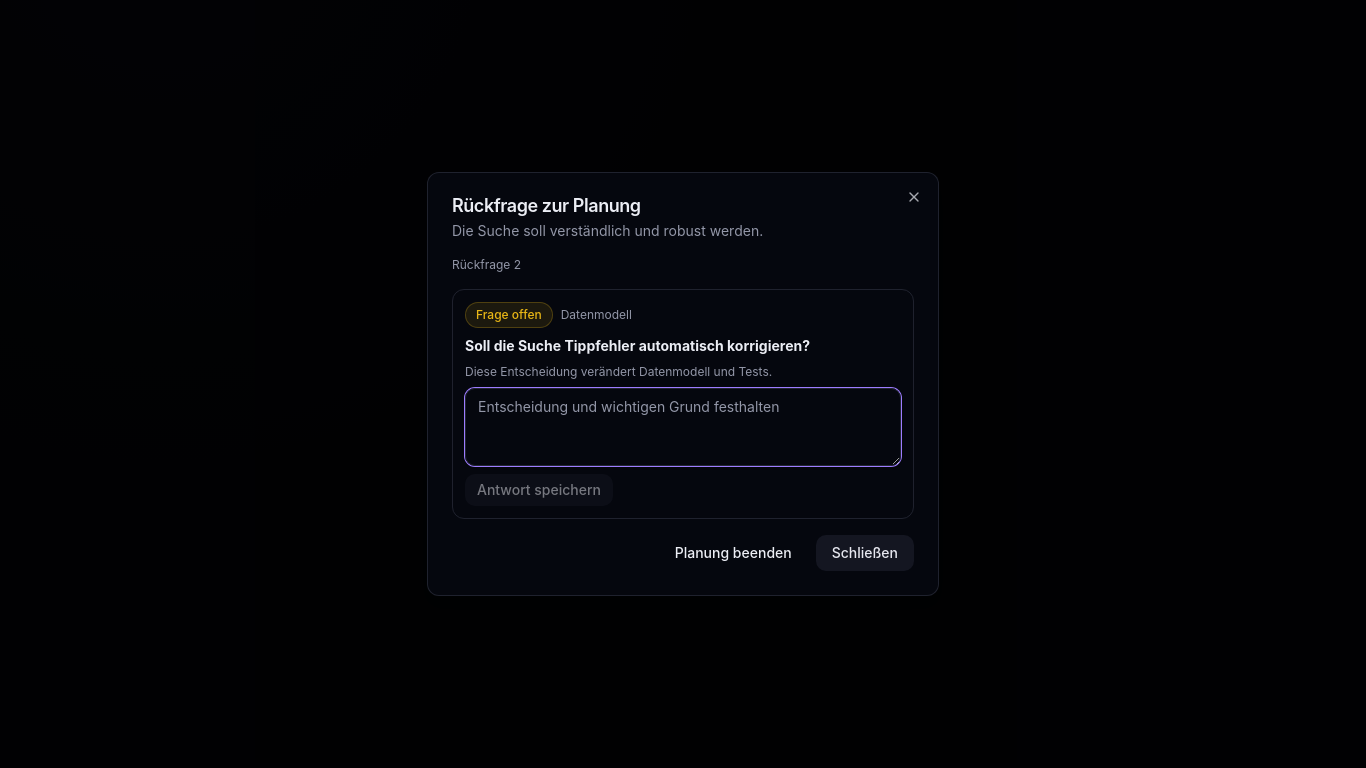
meldet verständlich, wenn die gespeicherte Antwort nur verzögert weiterläuft
The image size is (1366, 768).
In the text box named "Antwort auf: Soll die Suche Tippfehler automatisch korrigieren?": (683, 427) [465,388,901,466], type "Nein, die Eingabe soll unverändert bleiben."
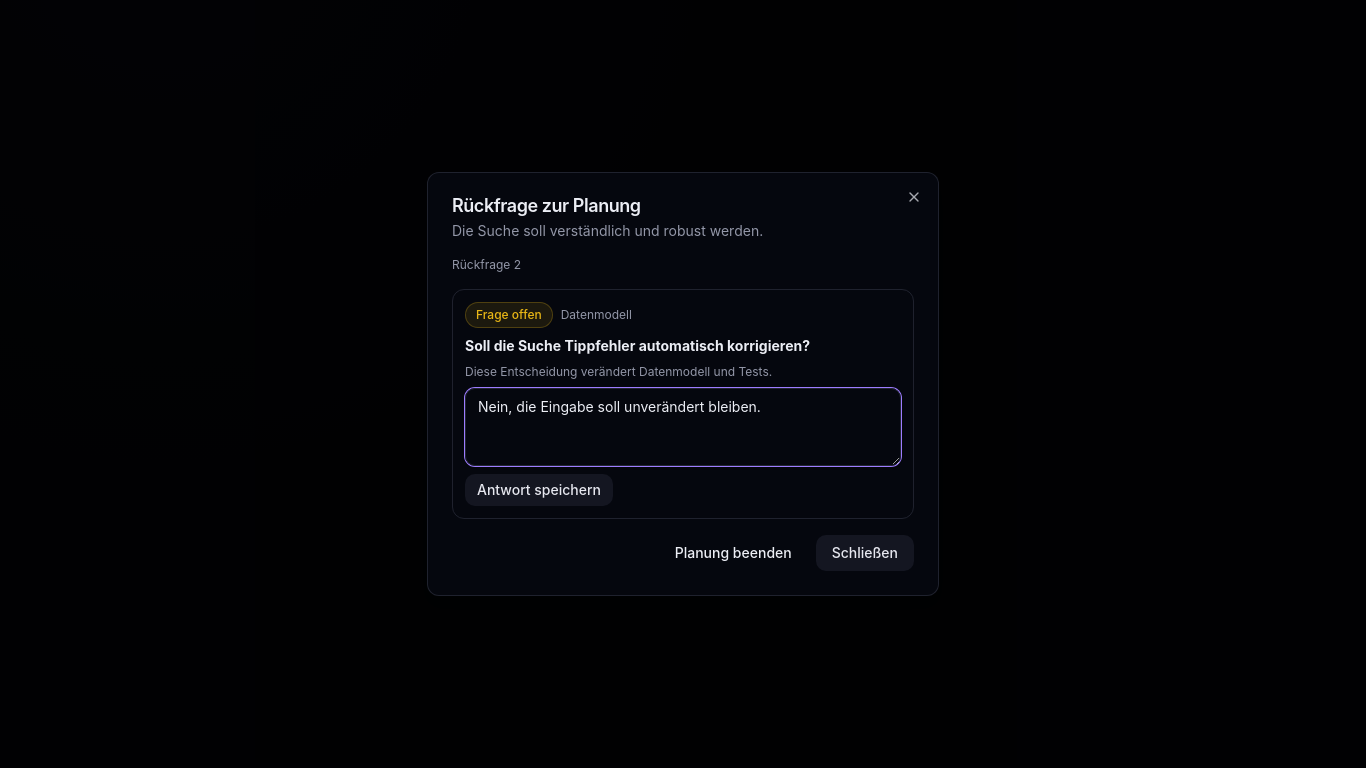
Click the button "Antwort speichern": (539, 490) [465,474,613,506]
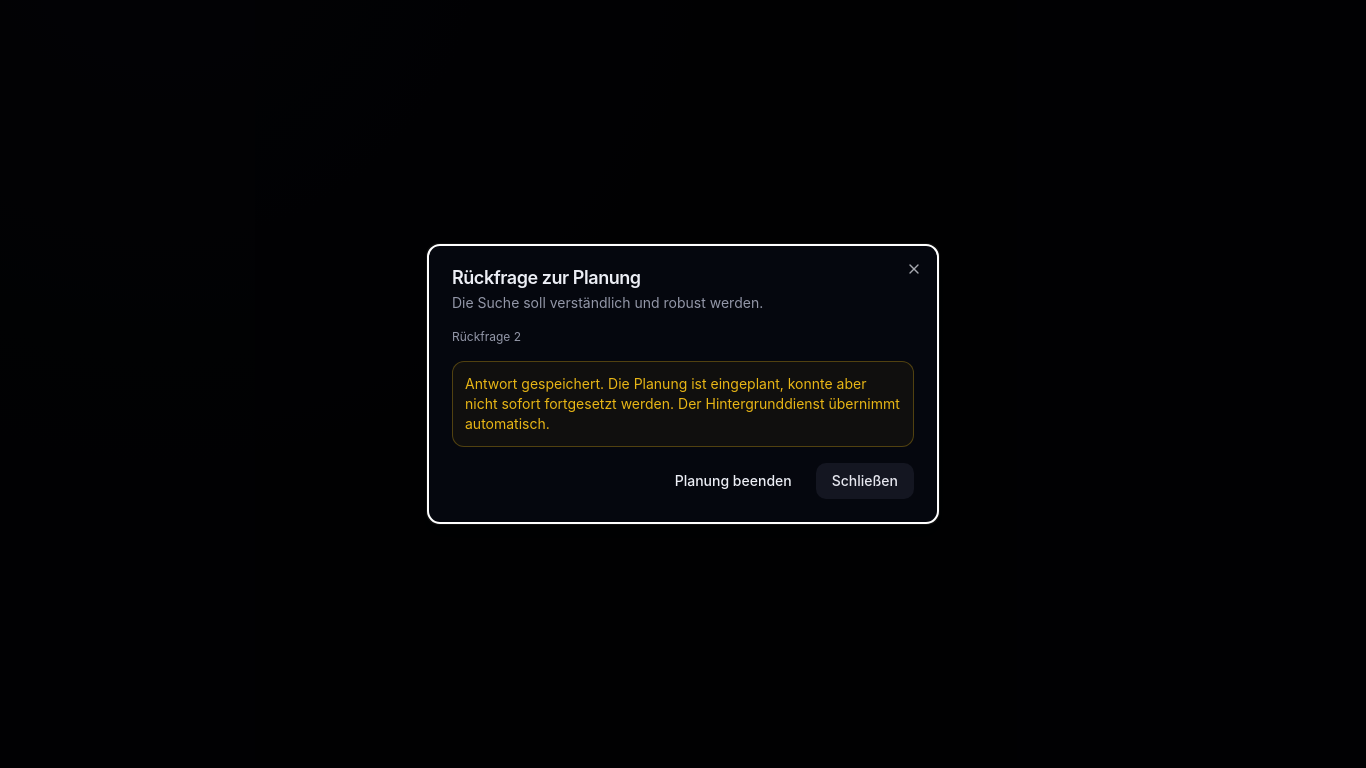
Expected: the text "Antwort gespeichert. Die Planung ist eingeplant, konnte aber nicht sofort fortgesetzt werden. Der Hintergrunddienst über" is shown, [465,375,900,432]
